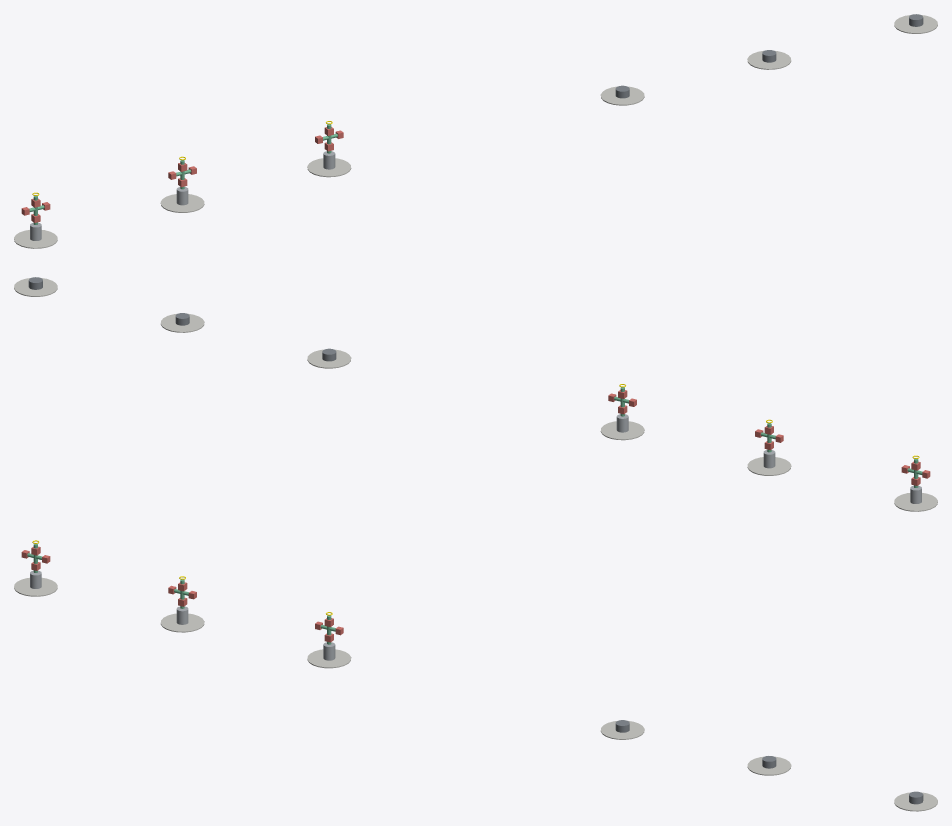
The model's file is cluster.glb.
3 renders of one model, top to bottom at view 1: azimuth 30°, elevation 25°; view 2: azimuth 150°, elevation 25°; view 3: azimuth 330°, elevation 25°, orthographic.
Bounding box in the file's own units: 62.6 × 2.98 × 2.6.
